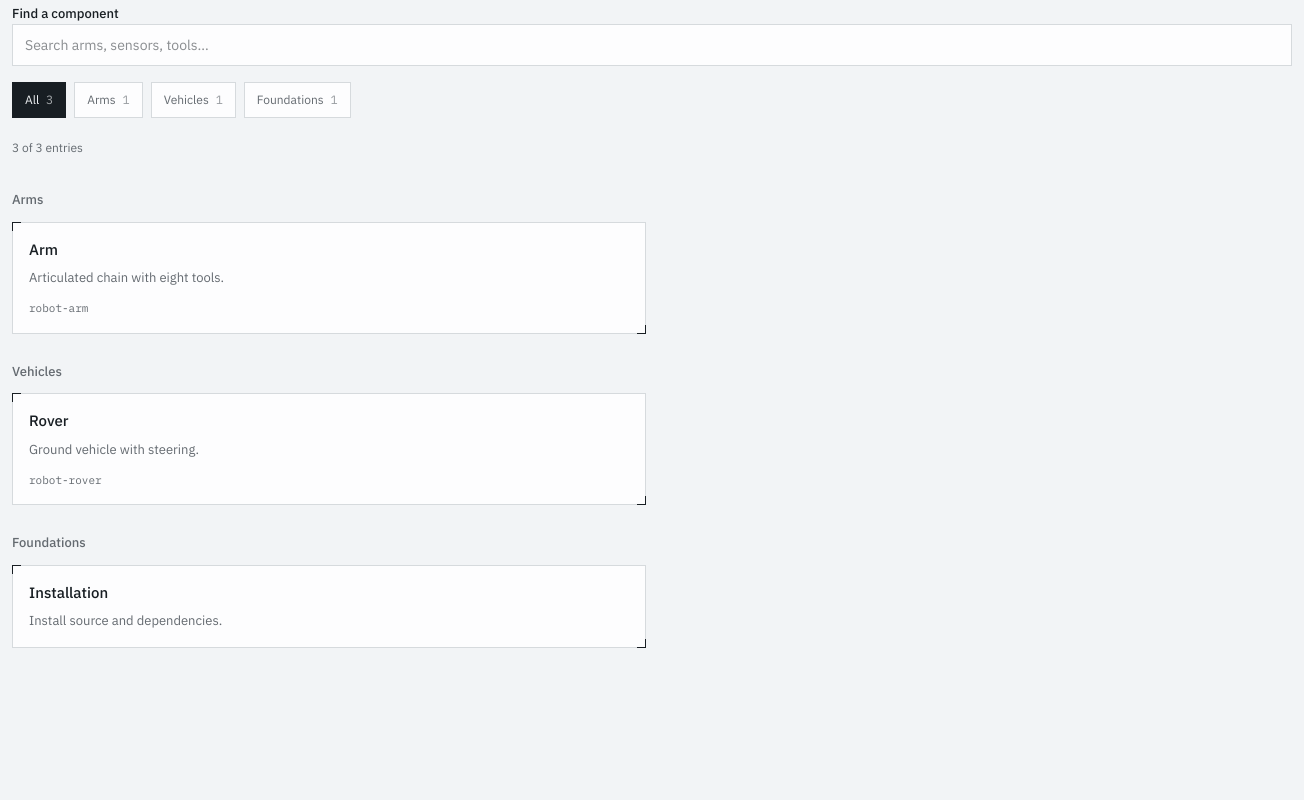
Test: docs catalogue › matches case-insensitive title, slug and description terms
Type "  GROUND steering " into the search field. click: (652, 45)
box: [12, 24, 1292, 66]
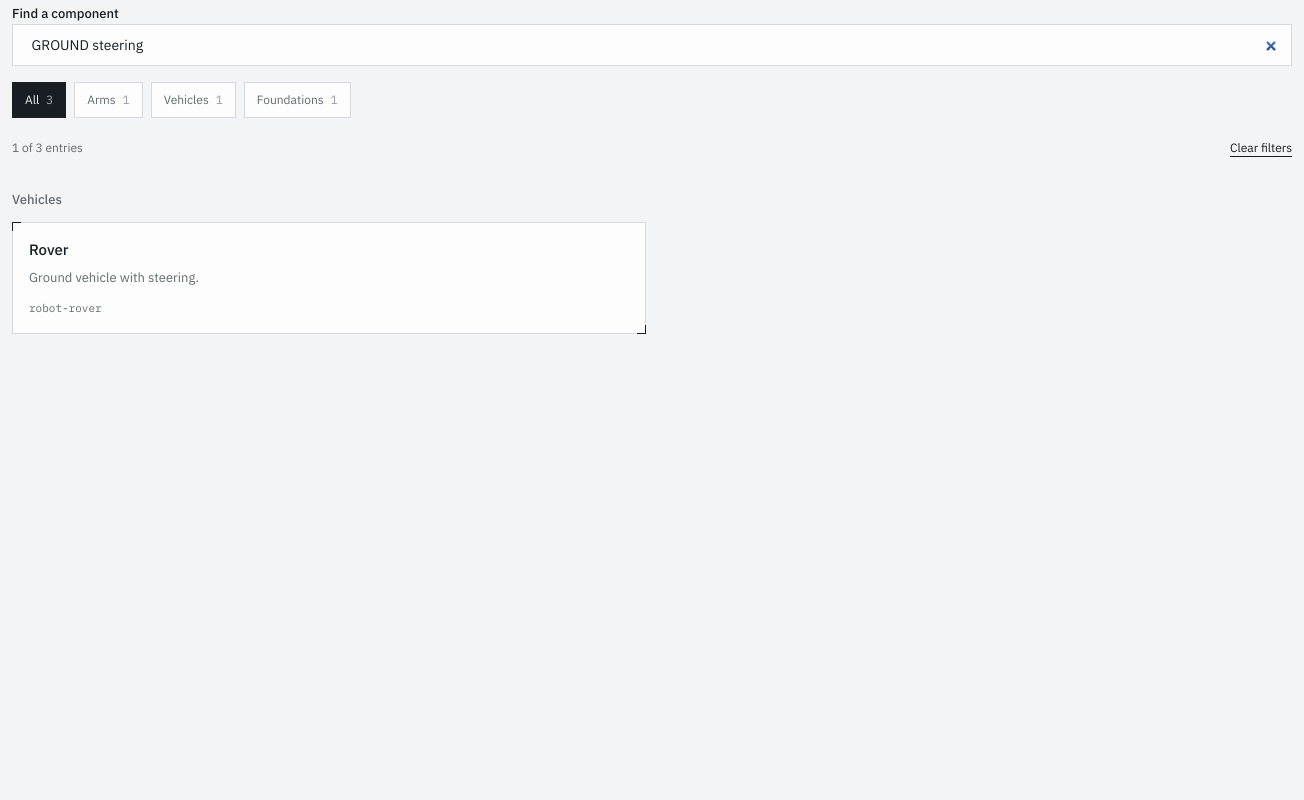
Check: the link "Rover Ground vehicle with steering. robot-rover" is shown, box [12, 222, 646, 334]
Replace the text in the search field with "robot-arm". click: (652, 45)
box: [12, 24, 1292, 66]
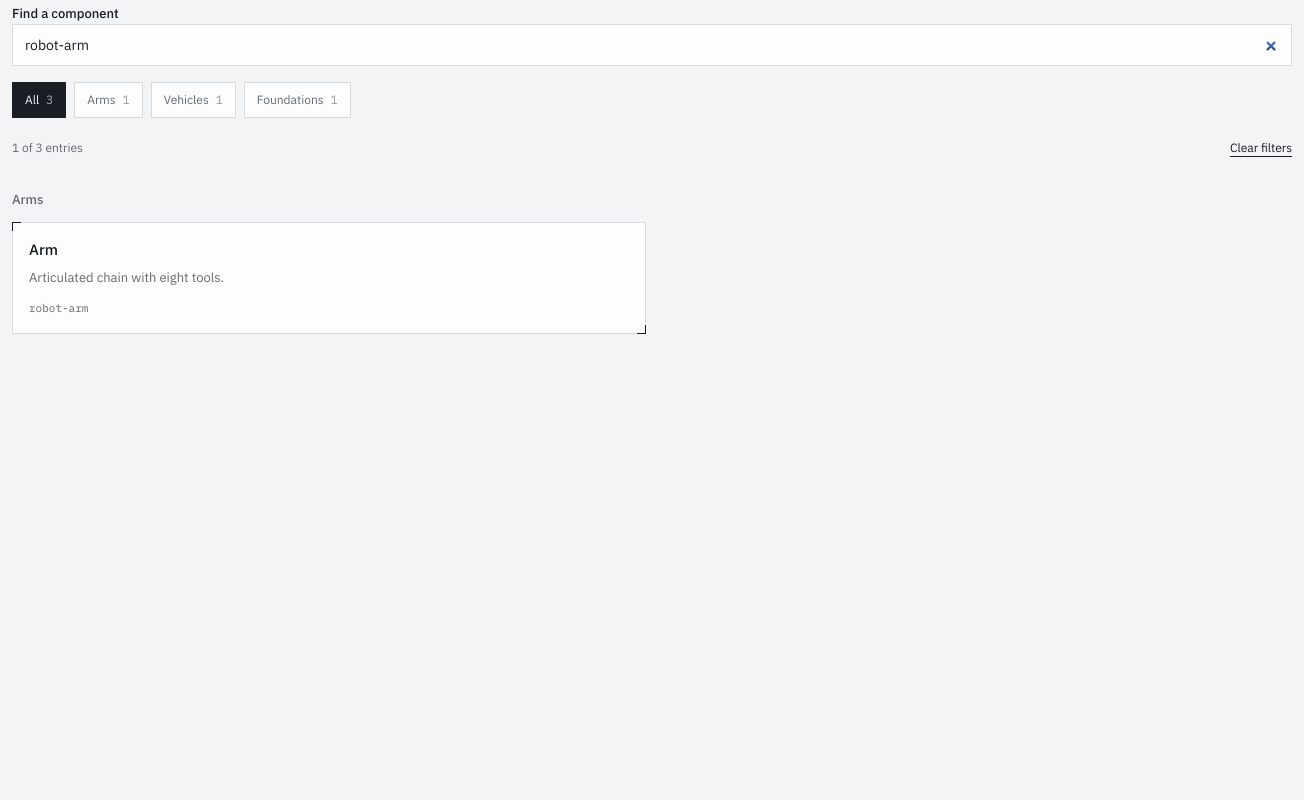
Check: the link "Arm Articulated chain with eight tools. robot-arm" is shown, box [12, 222, 646, 334]
